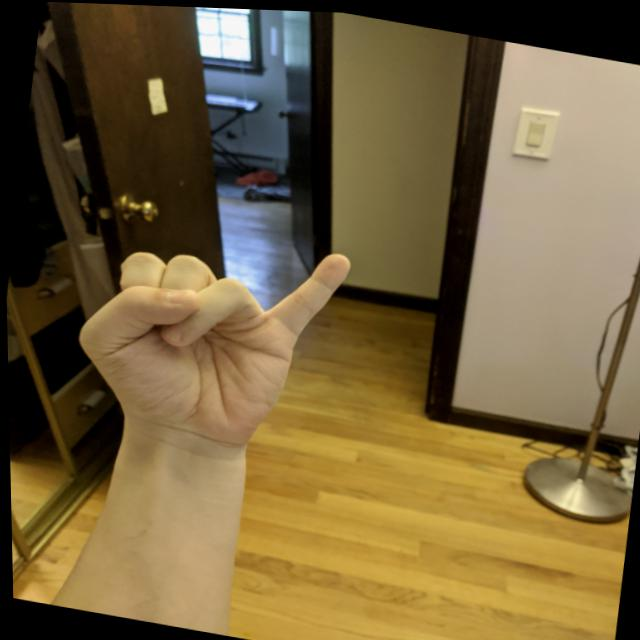I: (58, 202, 363, 464)
